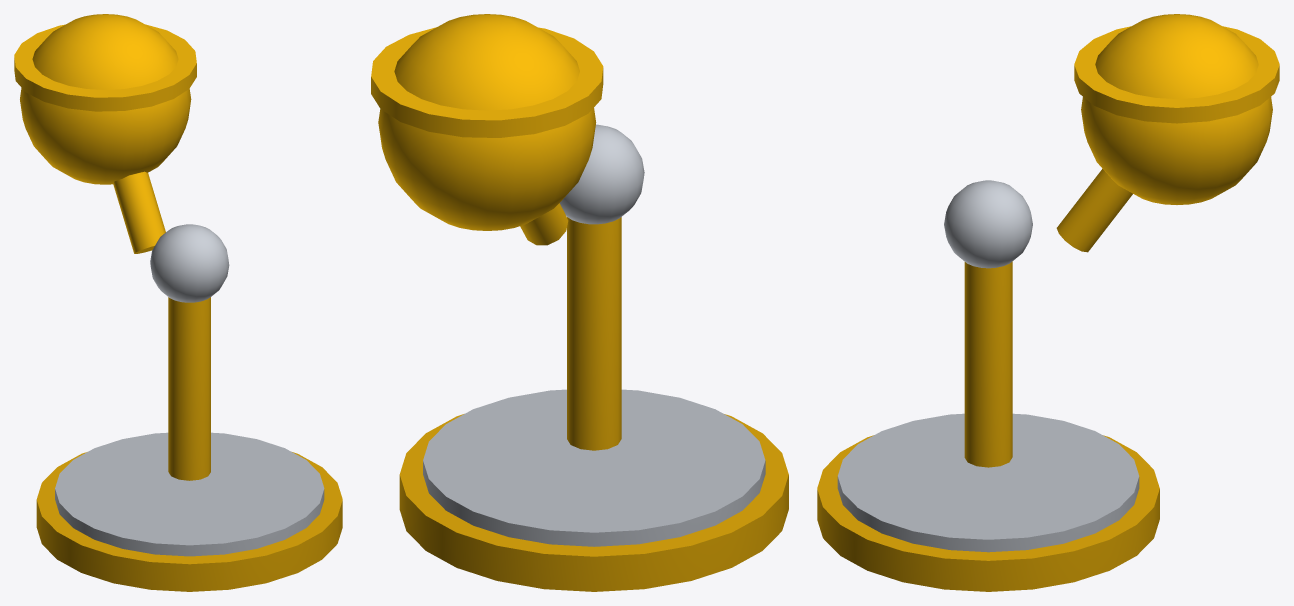
The model's file is prop_lamp_v2.glb.
3 renders of one model, left to right at view 1: azimuth 30°, elevation 25°; view 2: azimuth 150°, elevation 25°; view 3: azimuth 270°, elevation 25°, orthographic. The views are drawn at different scales.
Visible parts, largest first — view 1: LampV2; view 2: LampV2; view 3: LampV2.
Part boxes in pixels (left/top/right/bottom): LampV2: left=14, top=14, right=342, bottom=591; LampV2: left=371, top=14, right=788, bottom=591; LampV2: left=817, top=14, right=1279, bottom=591.
Size of the model in its own units: 1 by 1.6 by 1.35.
